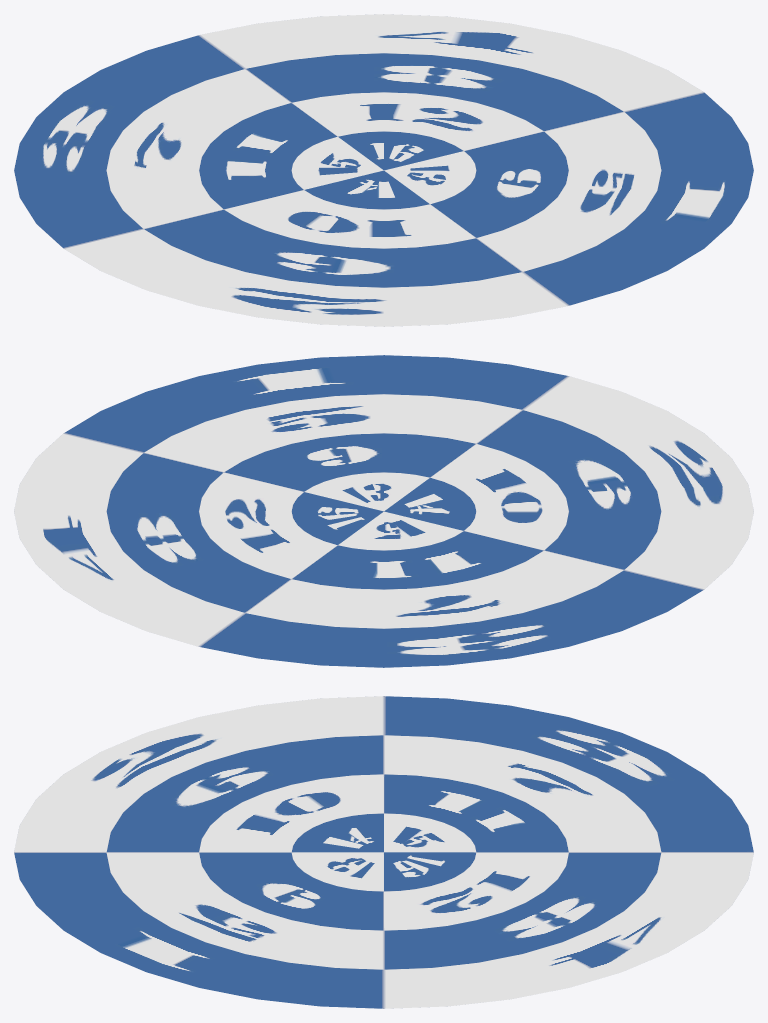
The model's file is RuiDad_Circle1.fbx.
The picture shows the model from 3 angles, top to bottom: view 1: azimuth 30°, elevation 25°; view 2: azimuth 150°, elevation 25°; view 3: azimuth 270°, elevation 25°; orthographic projection.
Parts seen in each view (by area): view 1: SM_e_Plc_P1009_Circle001; view 2: SM_e_Plc_P1009_Circle001; view 3: SM_e_Plc_P1009_Circle001.
Boxes of the visible parts, bbox=[...] form: SM_e_Plc_P1009_Circle001: bbox=[14, 14, 753, 326]; SM_e_Plc_P1009_Circle001: bbox=[14, 355, 753, 667]; SM_e_Plc_P1009_Circle001: bbox=[14, 696, 753, 1008].
Bounding box in the file's own units: 47.2 × 4.38e-16 × 47.2.
